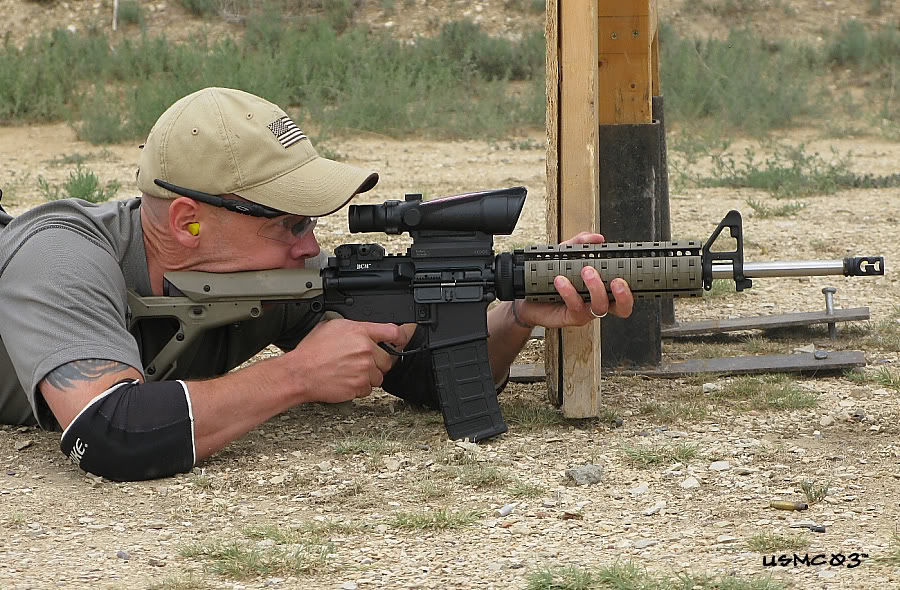Rifle: (110, 189, 887, 452)
